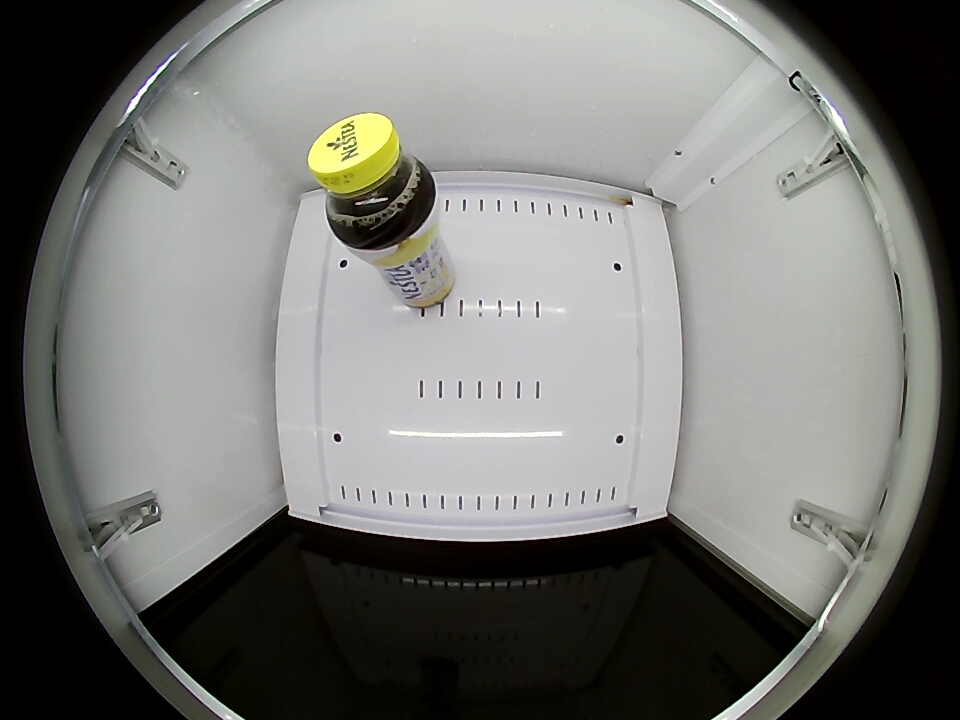chacui: (309, 113, 437, 250)
